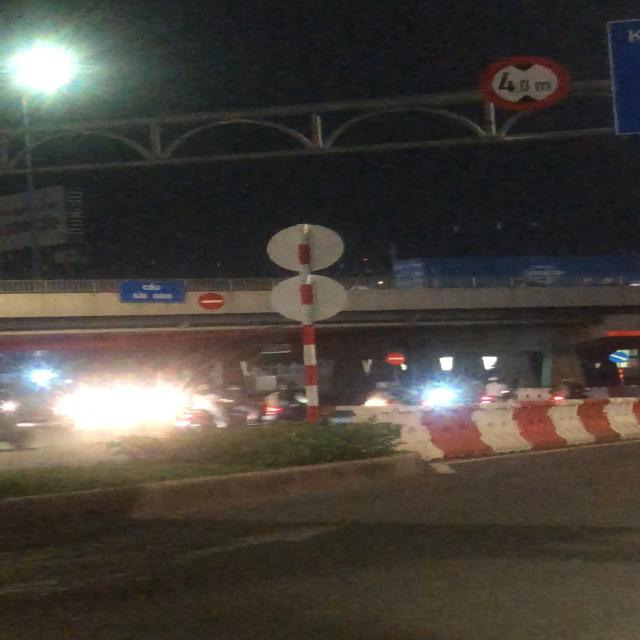Bien bao cam di nguoc chieu: (196, 292, 228, 312), (384, 352, 408, 365)
Bien bao huong phai di vong chuong ngai vat: (609, 350, 631, 364)
